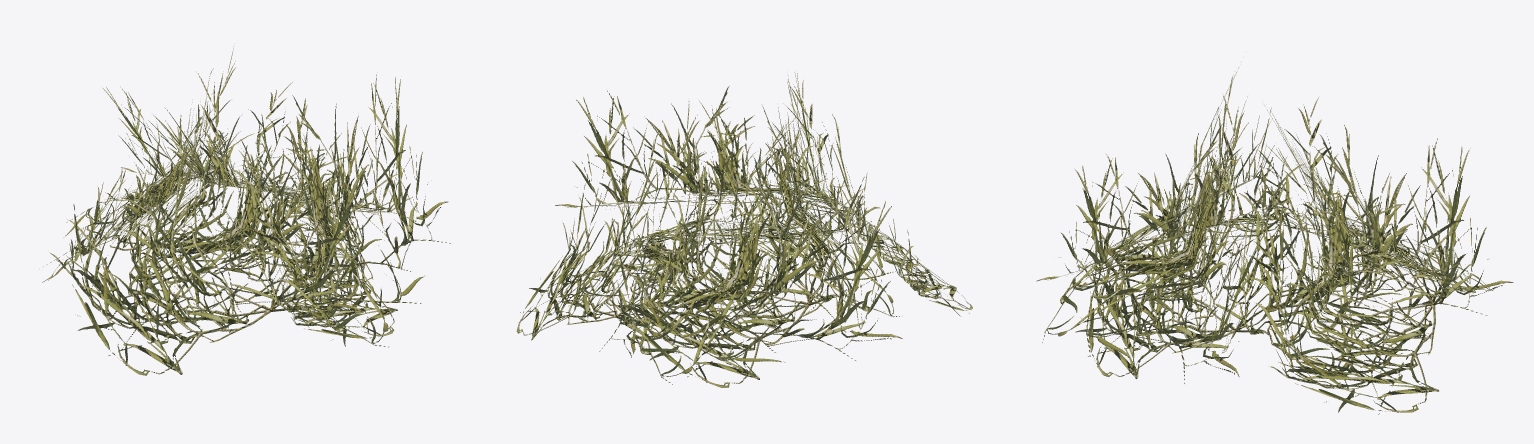
File: SM_FOL_Grass_Clump_01_A.fbx
3 views of the same model, side by side, from view 1: azimuth 30°, elevation 25°; view 2: azimuth 150°, elevation 25°; view 3: azimuth 270°, elevation 25° (orthographic). The views are drawn at different scales.
Parts seen in each view (by area): view 1: SM_FOL_Grass_Clump_01_A; view 2: SM_FOL_Grass_Clump_01_A; view 3: SM_FOL_Grass_Clump_01_A.
Boxes of the visible parts, x1,y1,x2,y2 form: SM_FOL_Grass_Clump_01_A: (42,46,450,375); SM_FOL_Grass_Clump_01_A: (516,72,972,387); SM_FOL_Grass_Clump_01_A: (1036,67,1513,414).
Size of the model in its own units: 116 by 72.22 by 109.
1 material, 1 textured.
